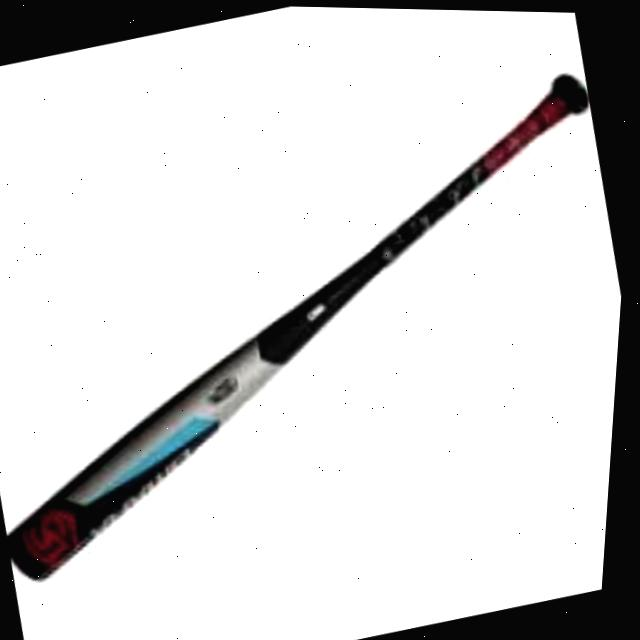baseball bat: (13, 69, 592, 592)
